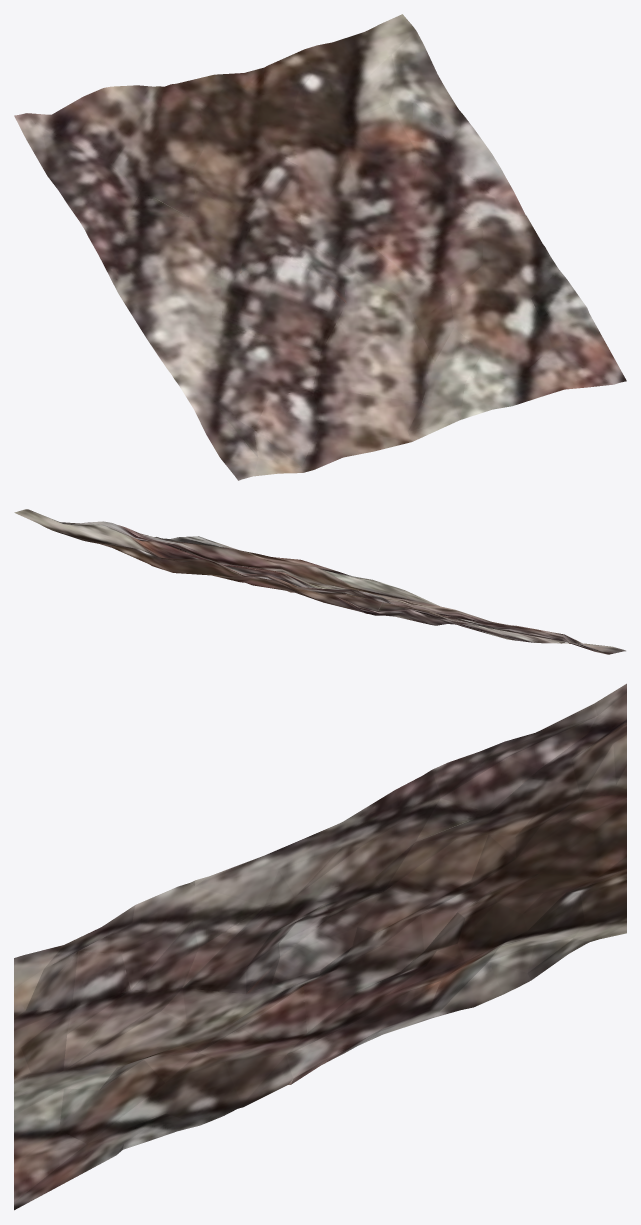
3 renders of one model, top to bottom at view 1: azimuth 30°, elevation 25°; view 2: azimuth 150°, elevation 25°; view 3: azimuth 270°, elevation 25°, orthographic. The views are drawn at different scales.
Size of the model in its own units: 0.8374 by 0.4441 by 0.8374.
3 materials, 3 textured.
